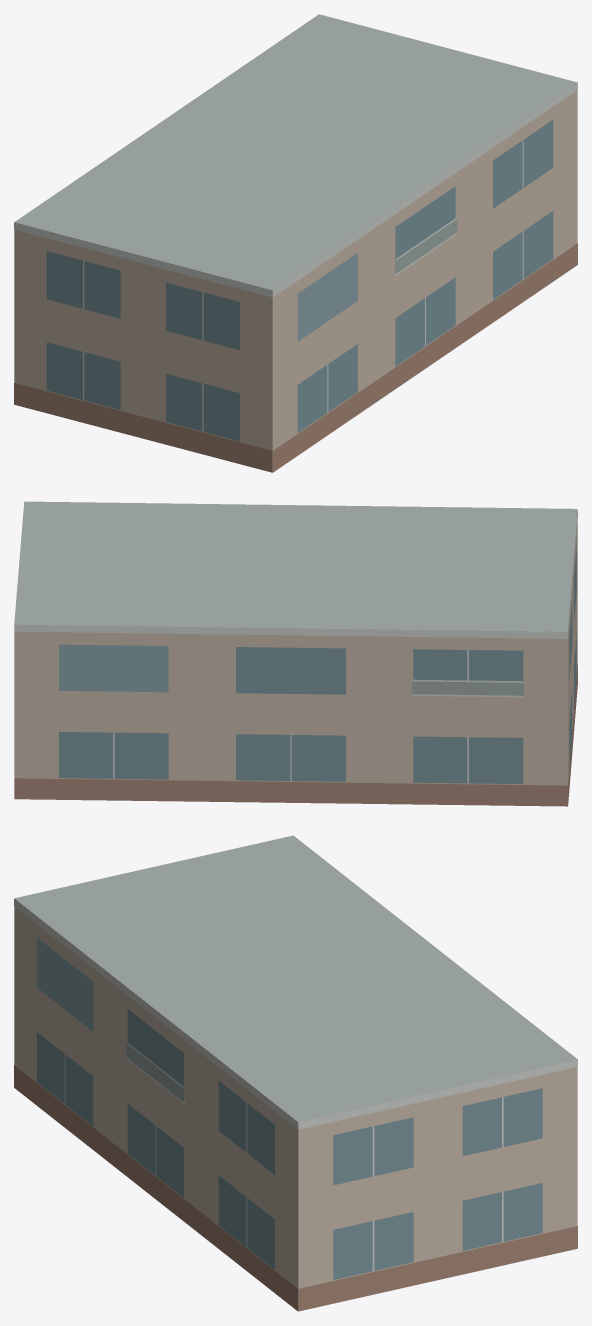
Rendered from survey-upis-32941539.glb.
3 views of the same model, one above another, from view 1: azimuth 30°, elevation 25°; view 2: azimuth 150°, elevation 25°; view 3: azimuth 270°, elevation 25° (orthographic). The views are drawn at different scales.
Visible parts, largest first — view 1: survey-upis-32941539.tmp; view 2: survey-upis-32941539.tmp; view 3: survey-upis-32941539.tmp.
Boxes of the visible parts, left/top/right/bottom form: survey-upis-32941539.tmp: left=14, top=14, right=577, bottom=472; survey-upis-32941539.tmp: left=14, top=501, right=577, bottom=806; survey-upis-32941539.tmp: left=14, top=835, right=577, bottom=1311.
Size of the model in its own units: 19.83 by 6.1 by 16.47.
